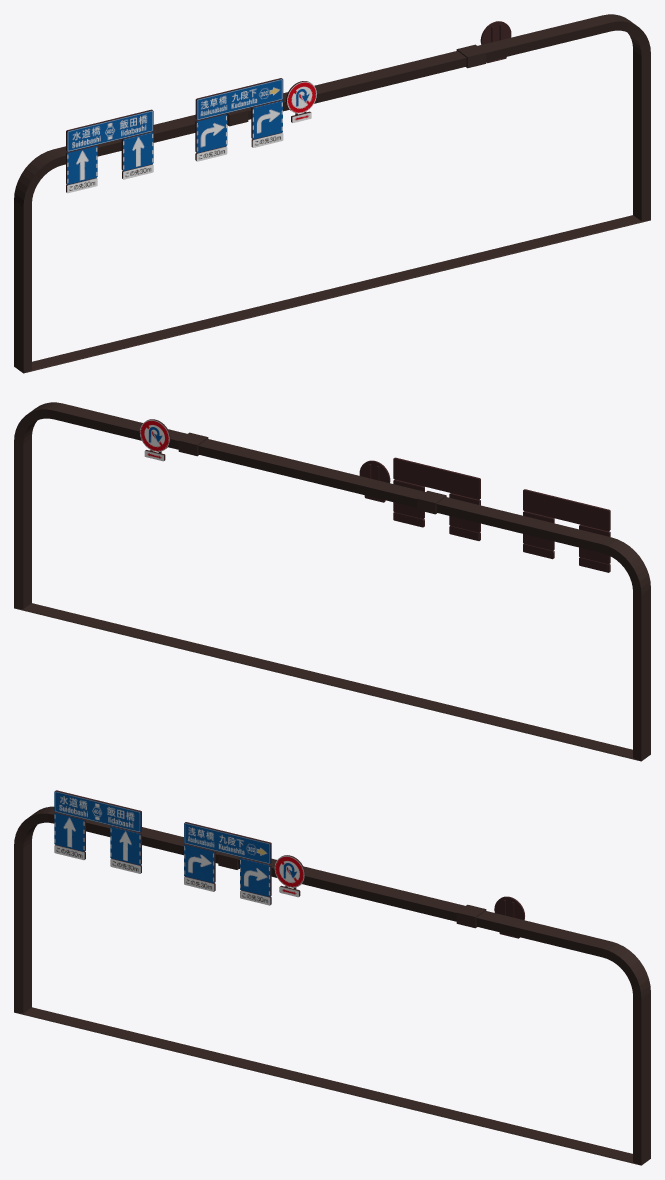
Rendered from hyoushiki 1.fbx.
The picture shows the model from 3 angles, top to bottom: view 1: azimuth 30°, elevation 25°; view 2: azimuth 150°, elevation 25°; view 3: azimuth 330°, elevation 25°; orthographic projection.
Parts seen in each view (by area): view 1: 立方体, 立方体.031, 立方体.033, 円, 円.001; view 2: 立方体, 立方体.033, 立方体.031, 円.001, 円; view 3: 立方体, 立方体.033, 立方体.031, 円, 円.001.
Boxes of the visible parts, x1,y1,x2,y2 form: 立方体: [14, 14, 650, 373]; 立方体.031: [195, 78, 283, 161]; 立方体.033: [66, 109, 153, 193]; 円: [286, 81, 316, 122]; 円.001: [480, 21, 511, 63]; 立方体: [14, 402, 650, 761]; 立方体.033: [523, 489, 610, 572]; 立方体.031: [393, 457, 480, 540]; 円.001: [139, 419, 170, 461]; 円: [359, 460, 390, 502]; 立方体: [14, 806, 650, 1165]; 立方体.033: [54, 790, 141, 873]; 立方体.031: [184, 822, 271, 905]; 円: [274, 855, 305, 897]; 円.001: [494, 896, 524, 938].
Bounding box in the file's own units: 4447 × 1579 × 171.
